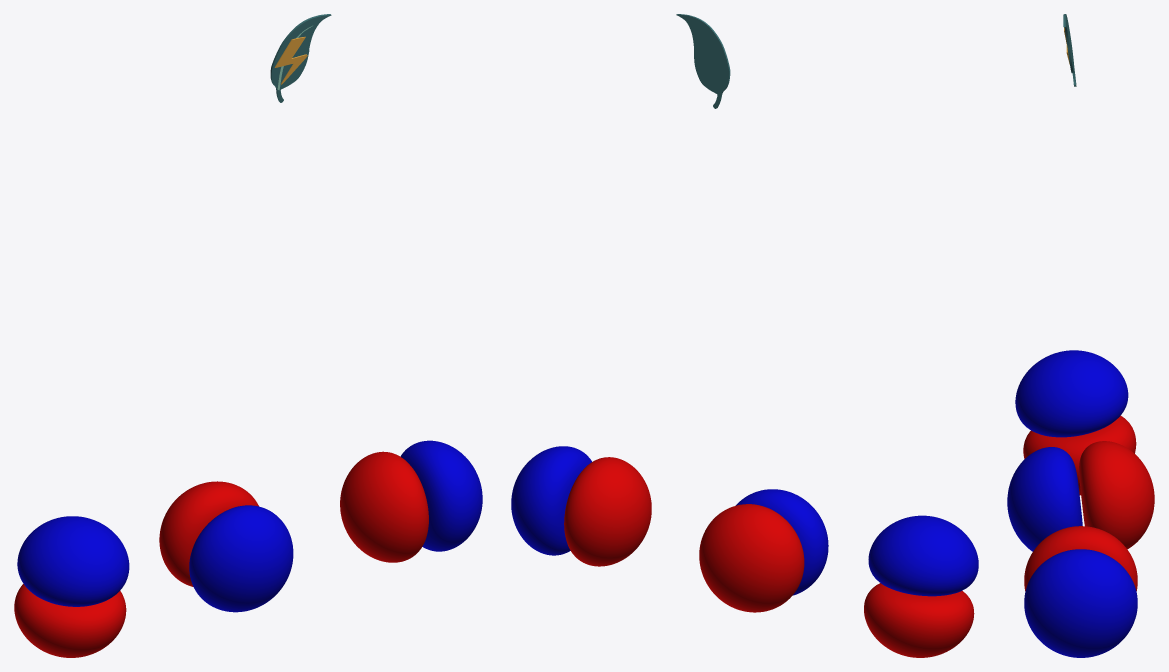
The model's file is orb_p.glb.
The picture shows the model from 3 angles, left to right: view 1: azimuth 30°, elevation 25°; view 2: azimuth 150°, elevation 25°; view 3: azimuth 270°, elevation 25°; orthographic projection. The views are drawn at different scales.
Visible parts, largest first — view 1: orb_py, orb_px, orb_pz, path182; view 2: orb_px, orb_py, orb_pz, path182; view 3: orb_py, orb_pz, orb_px, path182.
Boxes of the visible parts, left/top/right/bottom form: orb_py: left=340, top=440, right=482, bottom=562; orb_px: left=14, top=516, right=129, bottom=657; orb_pz: left=159, top=481, right=293, bottom=612; path182: left=270, top=14, right=331, bottom=102; orb_px: left=864, top=515, right=978, bottom=657; orb_py: left=511, top=446, right=651, bottom=566; orb_pz: left=699, top=489, right=828, bottom=612; path182: left=676, top=14, right=730, bottom=108; orb_py: left=1024, top=526, right=1137, bottom=657; orb_pz: left=1007, top=441, right=1154, bottom=551; orb_px: left=1015, top=350, right=1136, bottom=495; path182: left=1063, top=14, right=1076, bottom=86.
Size of the model in its own units: 4.73 by 5.79 by 1.31.
